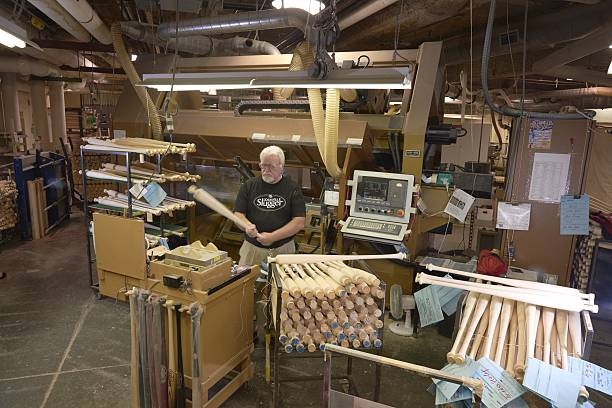bita: (190, 182, 260, 236)
